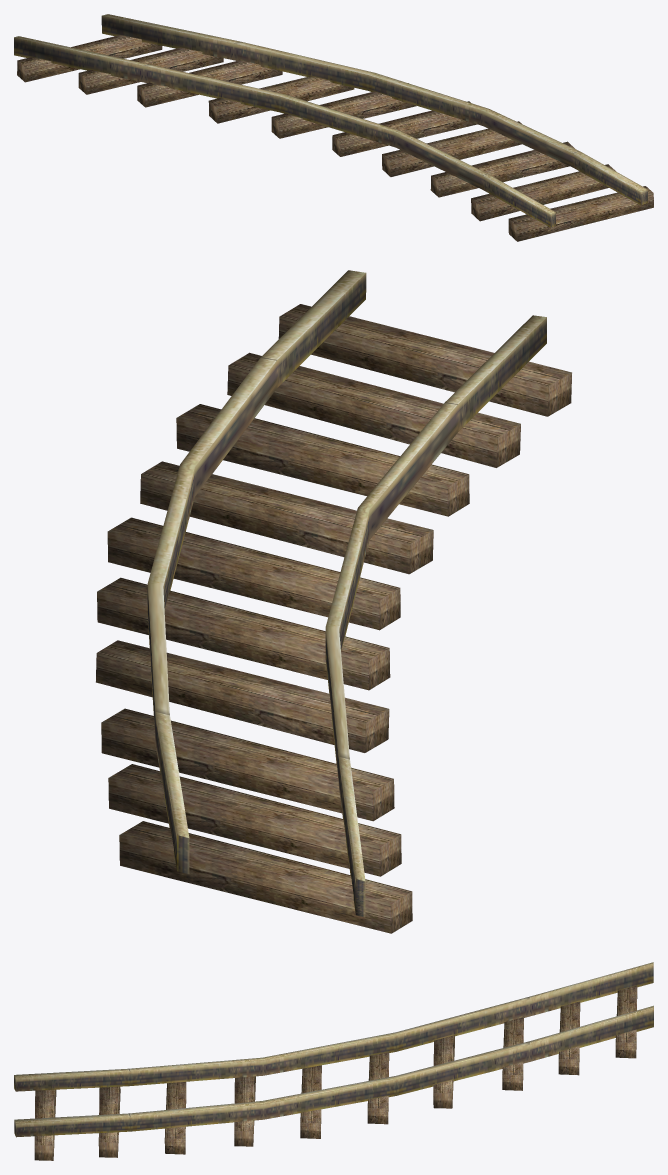
The model's file is S_Build_West079.FBX.
The picture shows the model from 3 angles, top to bottom: view 1: azimuth 30°, elevation 25°; view 2: azimuth 150°, elevation 25°; view 3: azimuth 270°, elevation 25°; orthographic projection. The views are drawn at different scales.
Visible parts, largest first — view 1: S_Build_West079; view 2: S_Build_West079; view 3: S_Build_West079.
Boxes of the visible parts, left/top/right/bottom form: S_Build_West079: left=14, top=14, right=653, bottom=241; S_Build_West079: left=96, top=270, right=571, bottom=933; S_Build_West079: left=14, top=962, right=653, bottom=1160.
Bounding box in the file's own units: 627 × 991 × 57.43.
